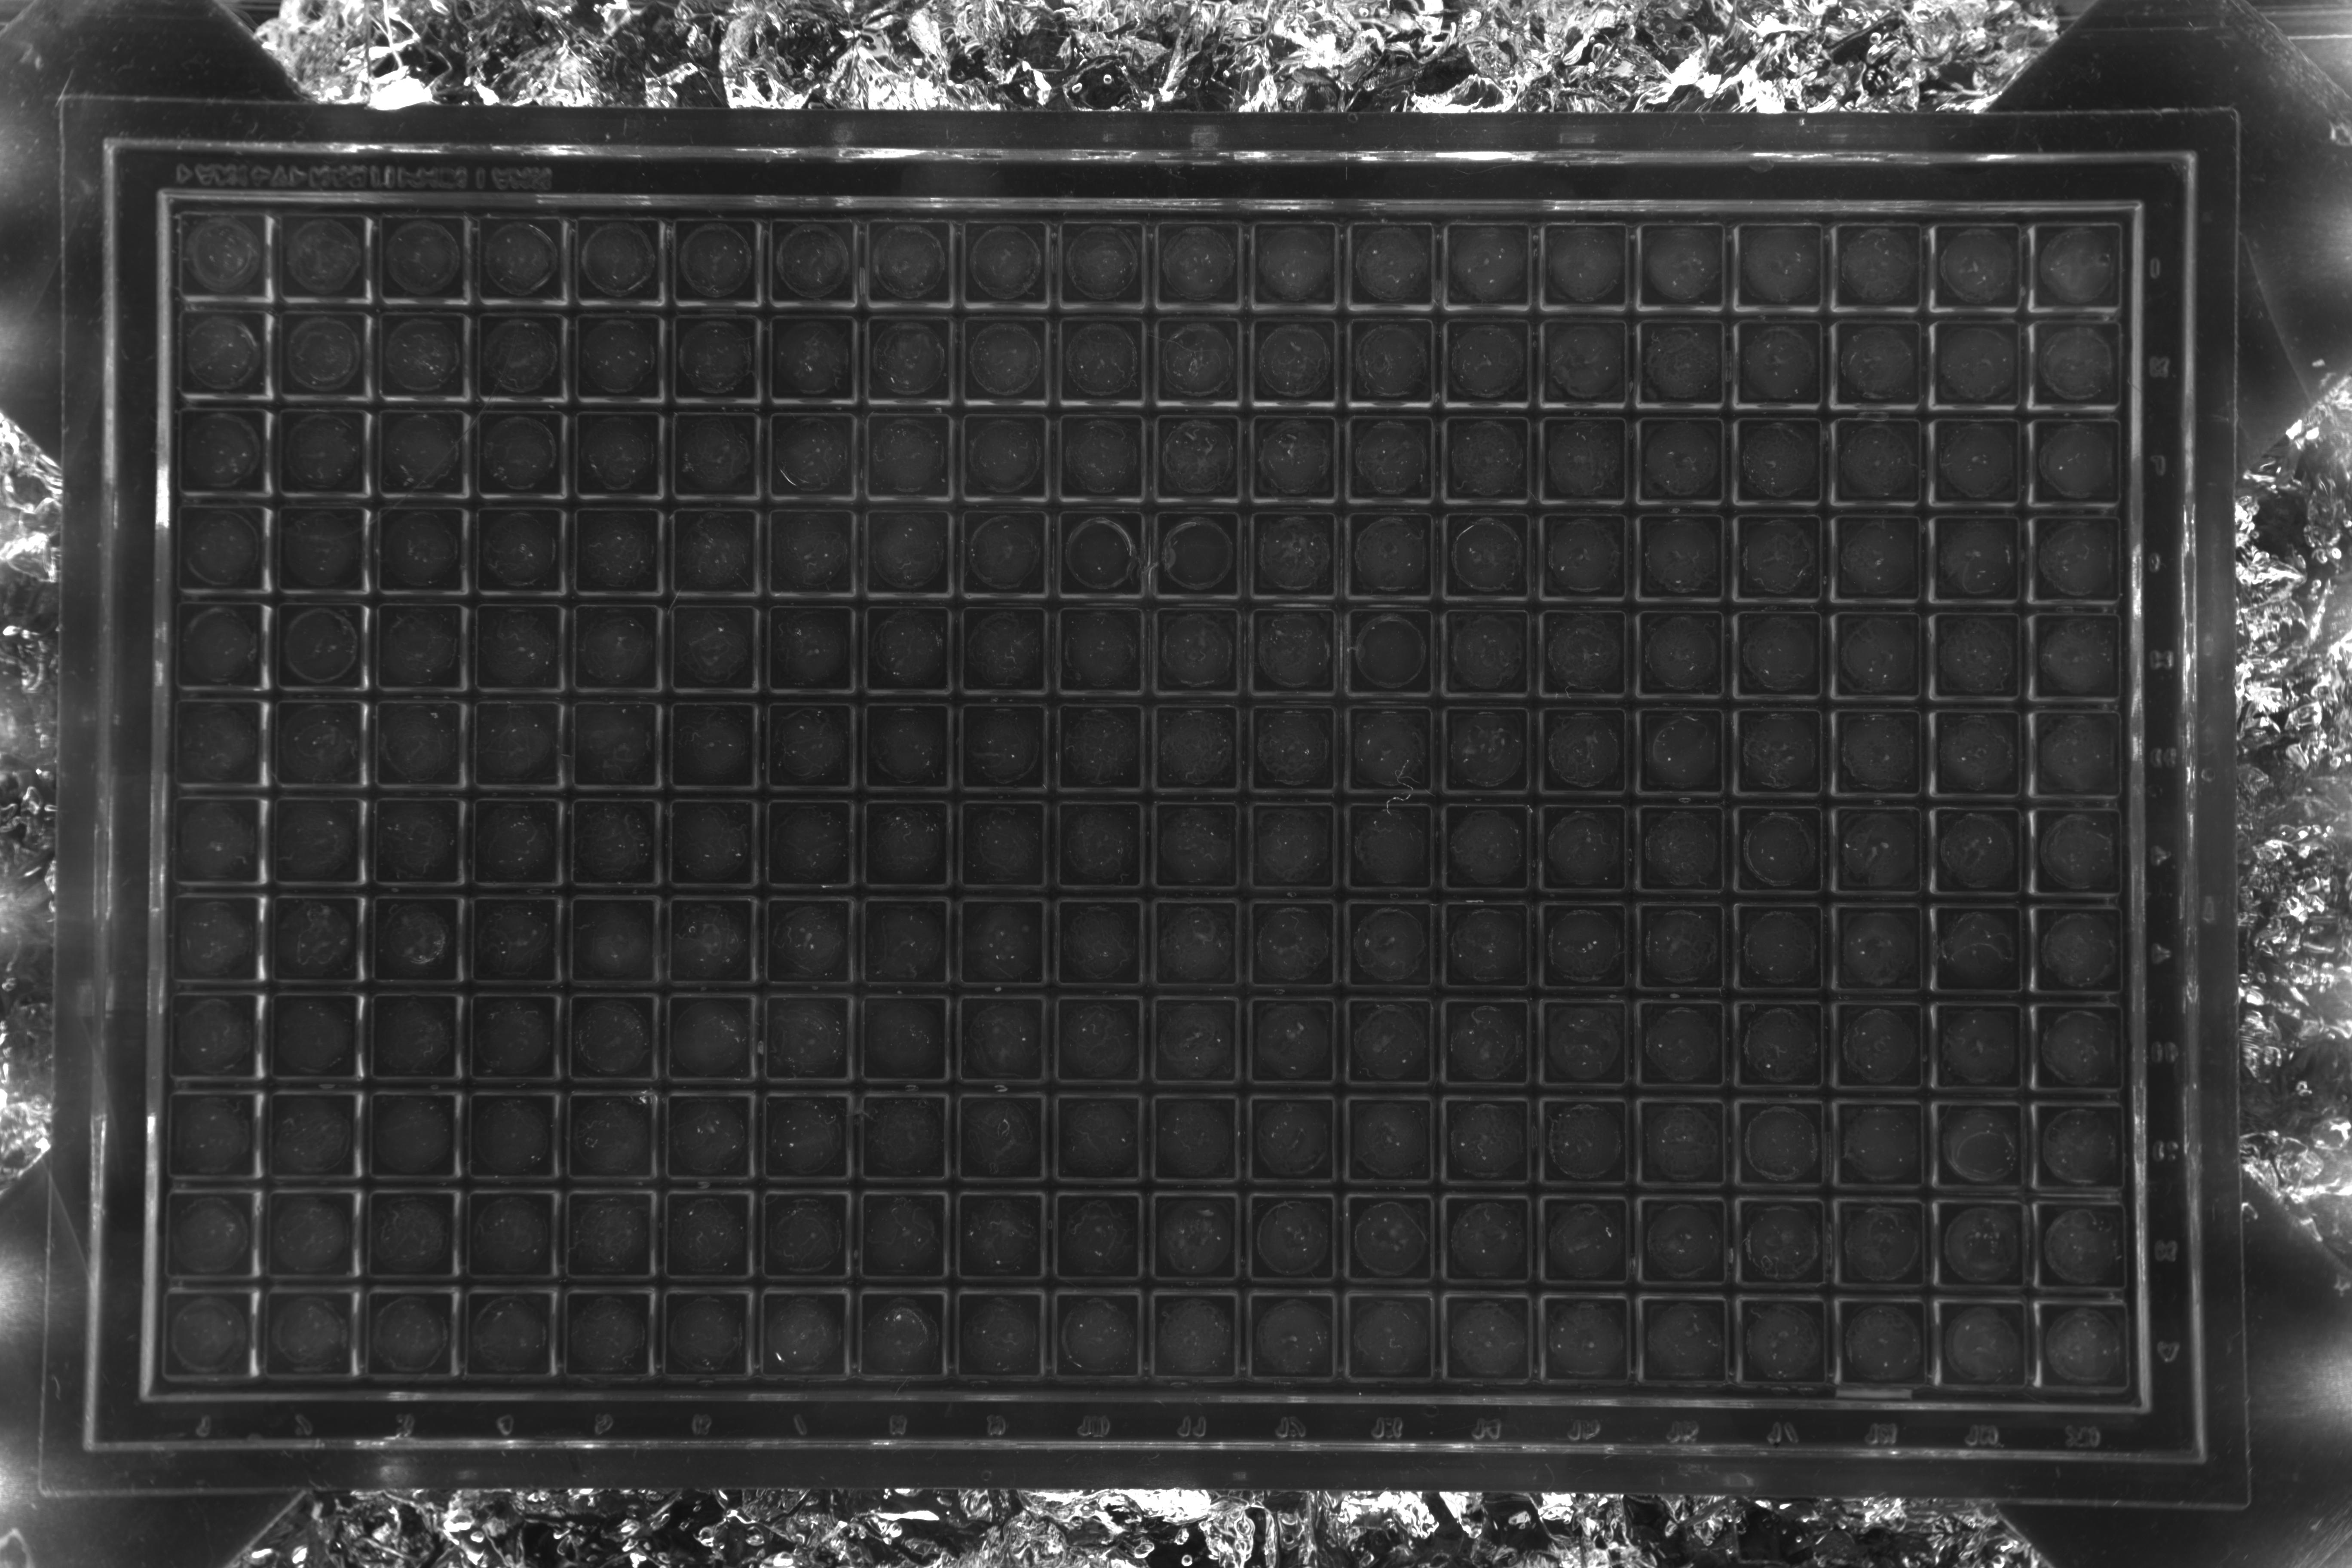WM_well: (789, 462, 878, 549), (194, 1143, 282, 1230), (205, 262, 292, 350), (294, 1143, 381, 1230), (303, 651, 390, 738), (303, 457, 390, 544), (392, 1143, 479, 1230), (693, 268, 780, 355), (693, 364, 780, 451), (693, 460, 780, 548), (1176, 1241, 1263, 1328), (1176, 560, 1263, 647), (1176, 754, 1263, 842), (1370, 656, 1458, 744), (1372, 1340, 1459, 1428), (1468, 948, 1556, 1036), (1561, 269, 1648, 357), (1564, 656, 1652, 744), (1568, 1244, 1655, 1332), (1662, 656, 1750, 744), (1662, 754, 1750, 842), (1666, 1148, 1753, 1235), (1760, 754, 1848, 842), (1963, 1251, 2051, 1339)
